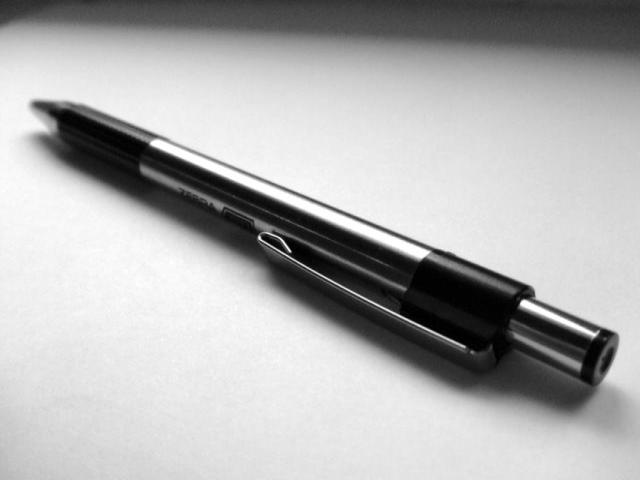PEN: (30, 85, 640, 416)
